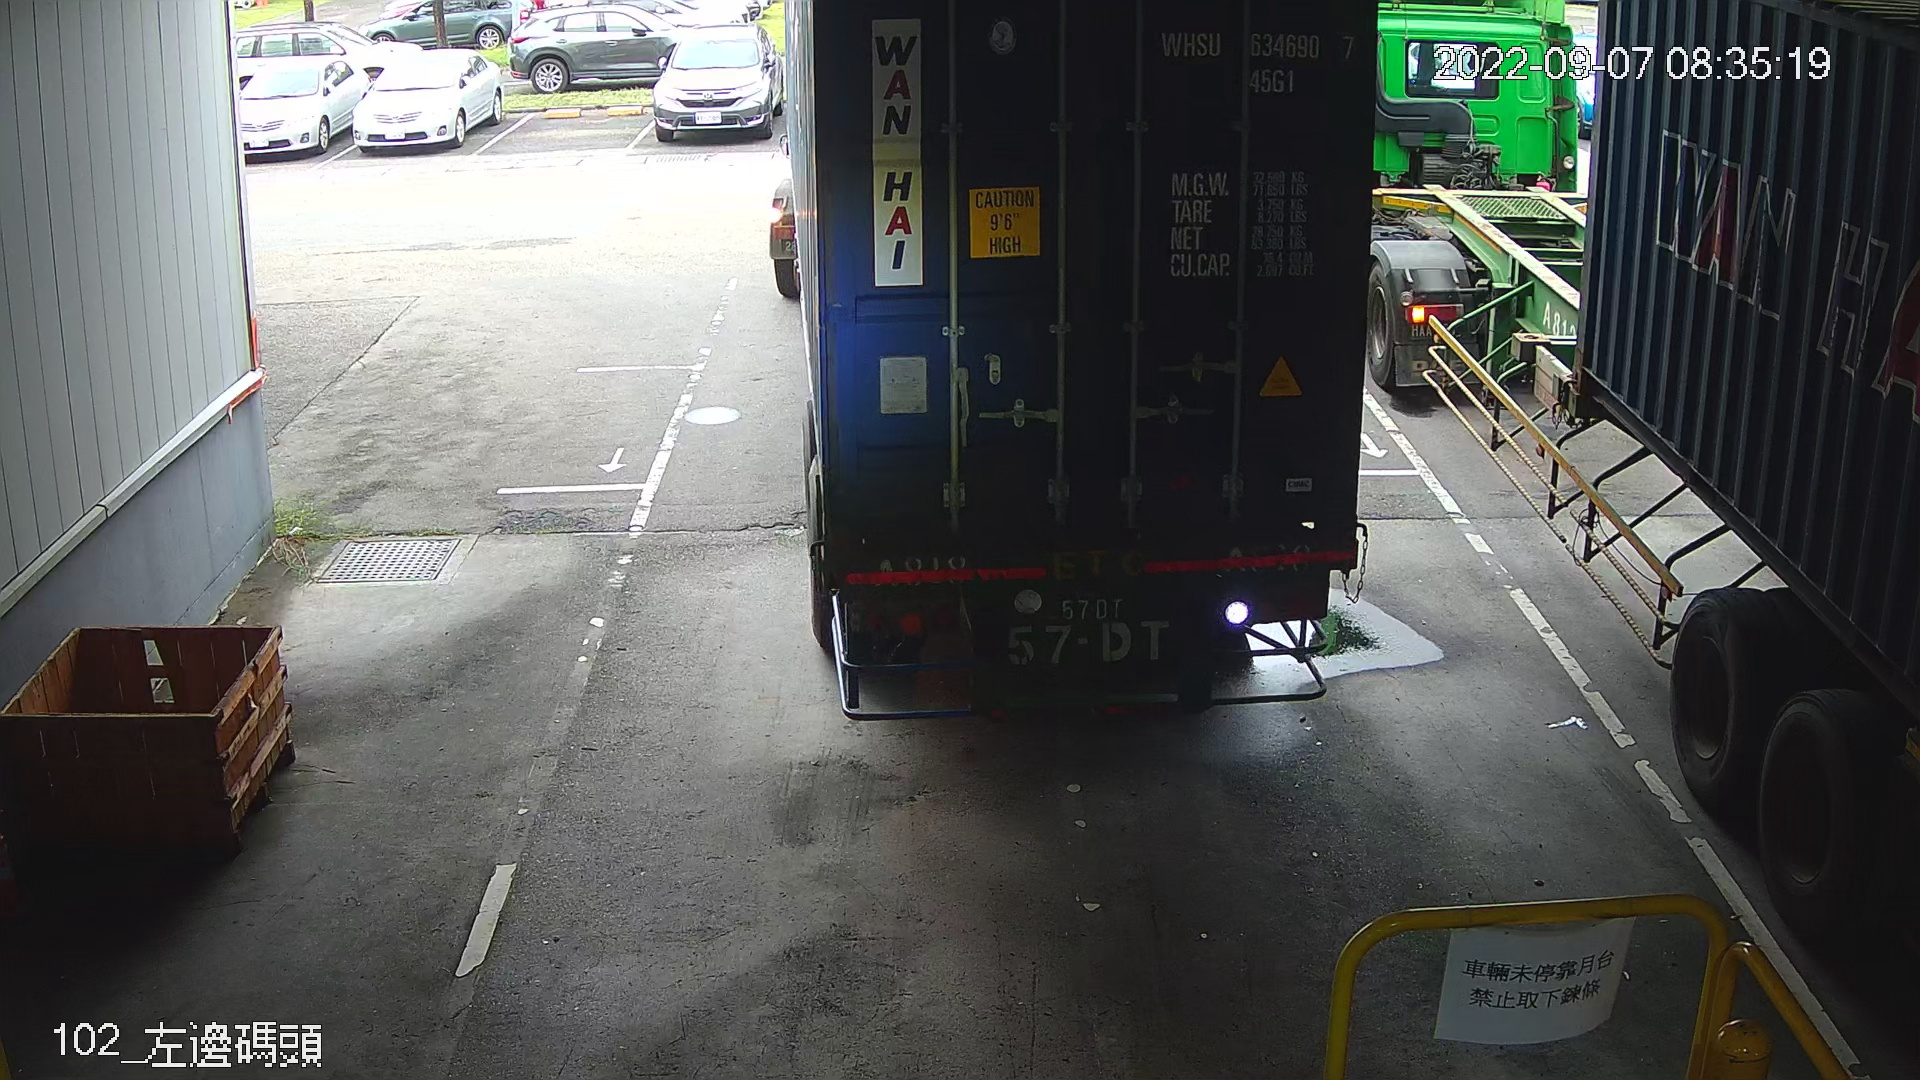container: (1150, 20, 1364, 104)
